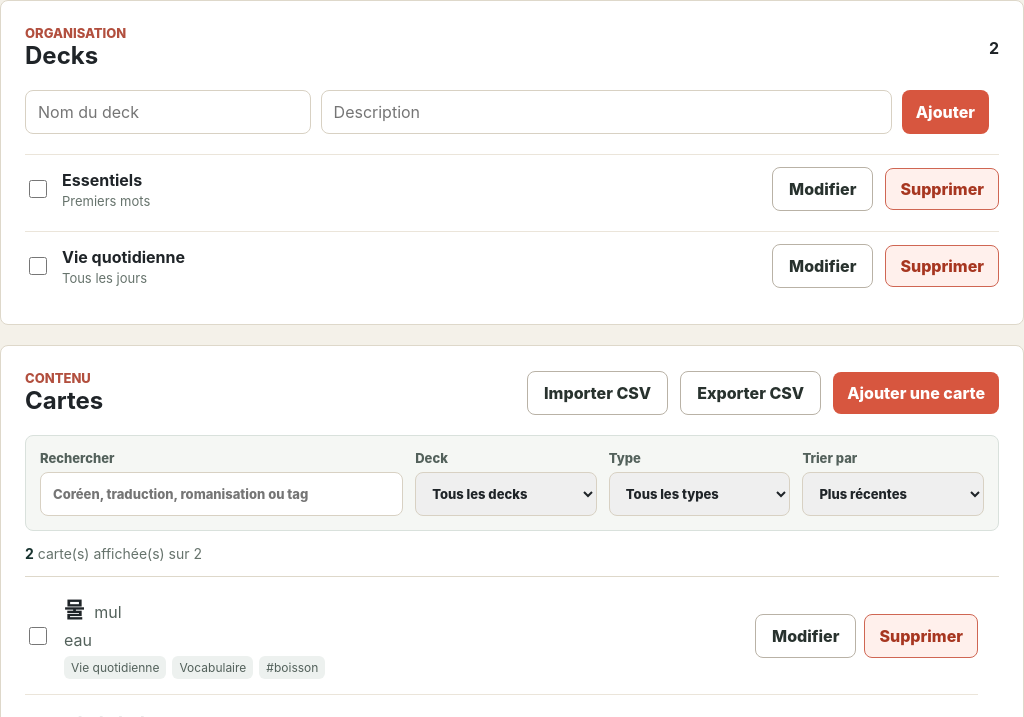
Test: LibraryPanel › filters existing cards and opens dedicated create and edit dialogs
The width and height of the screenshot is (1024, 717).
Expected: the message reads "2 carte(s) affichée(s) sur 2", [25,545,202,562]
Type "bonjour" into the search field labelled "Rechercher" at (222, 494), box [40,472,403,516]
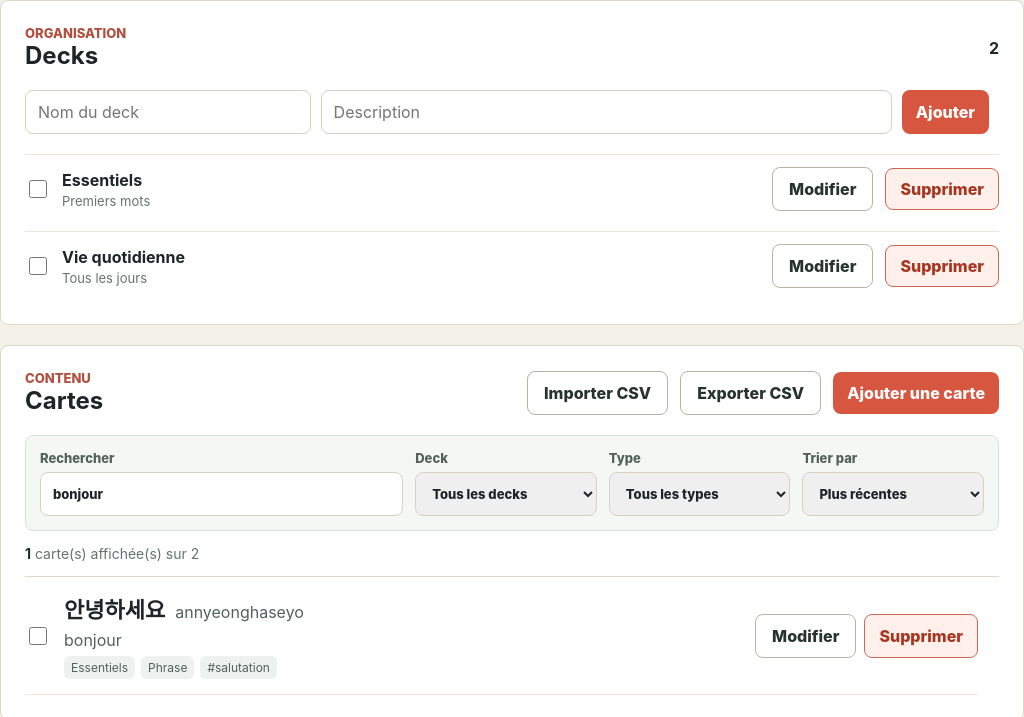
Expected: the element named "Carte 안녕하세요" is shown, [25,577,978,695]
Clear the search field labelled "Rechercher" at (222, 494), box [40,472,403,516]
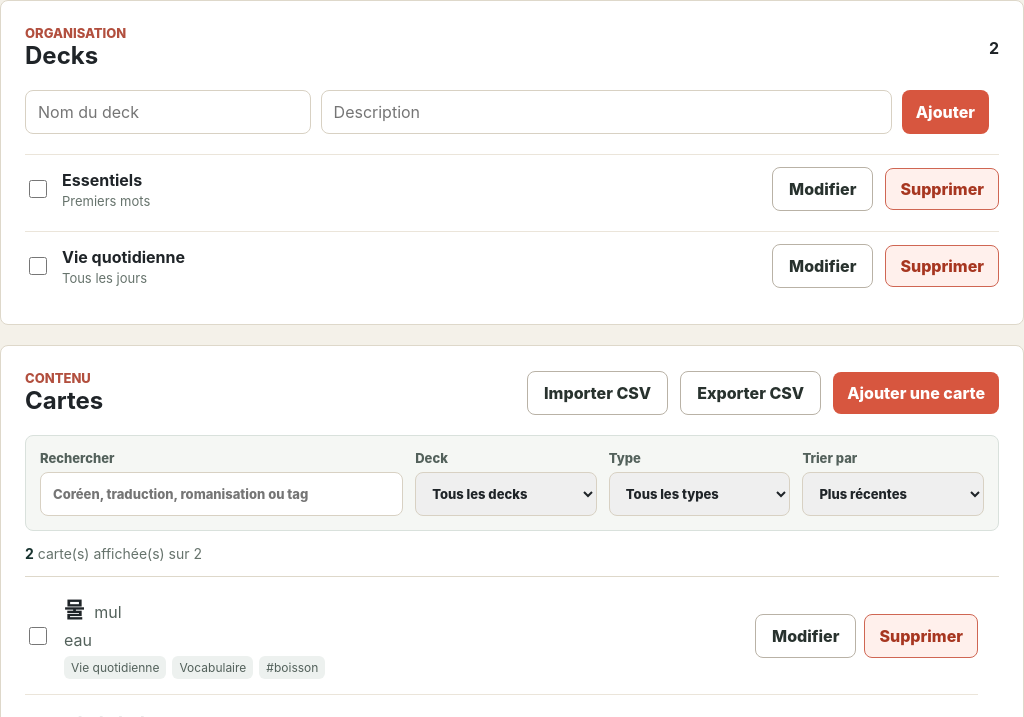
Select "Vie quotidienne" in the dropdown labelled "Deck" at (506, 494), box [415,472,597,516]
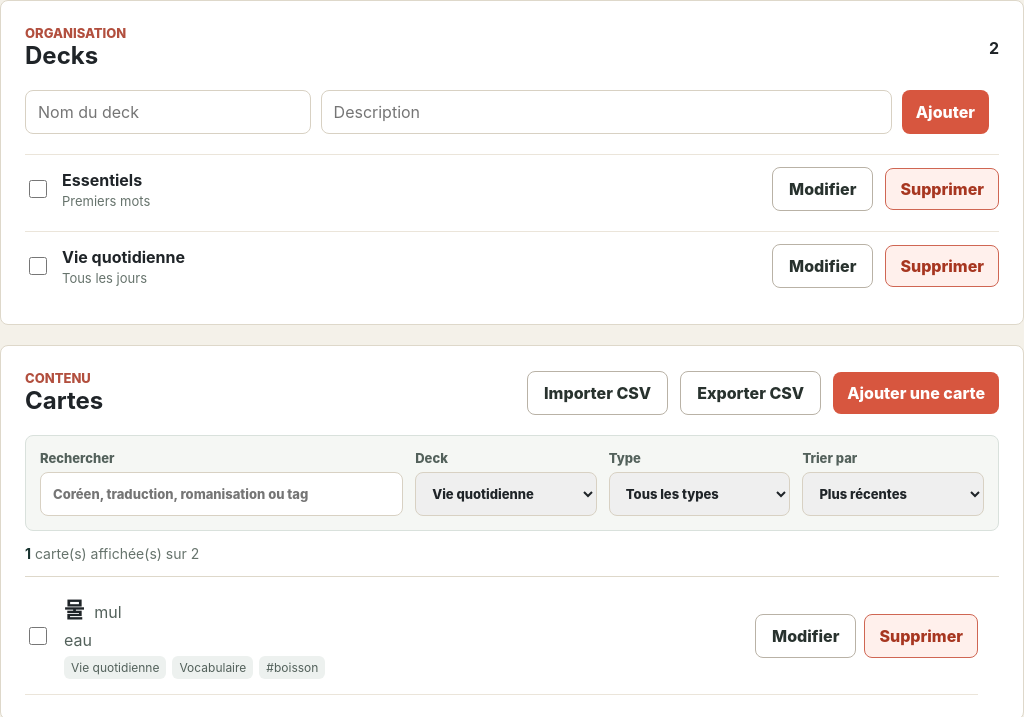
Expected: the element named "Carte 물" is shown, [25,577,978,695]
Click the button "Ajouter une carte" at (916, 393), box [833,372,999,414]
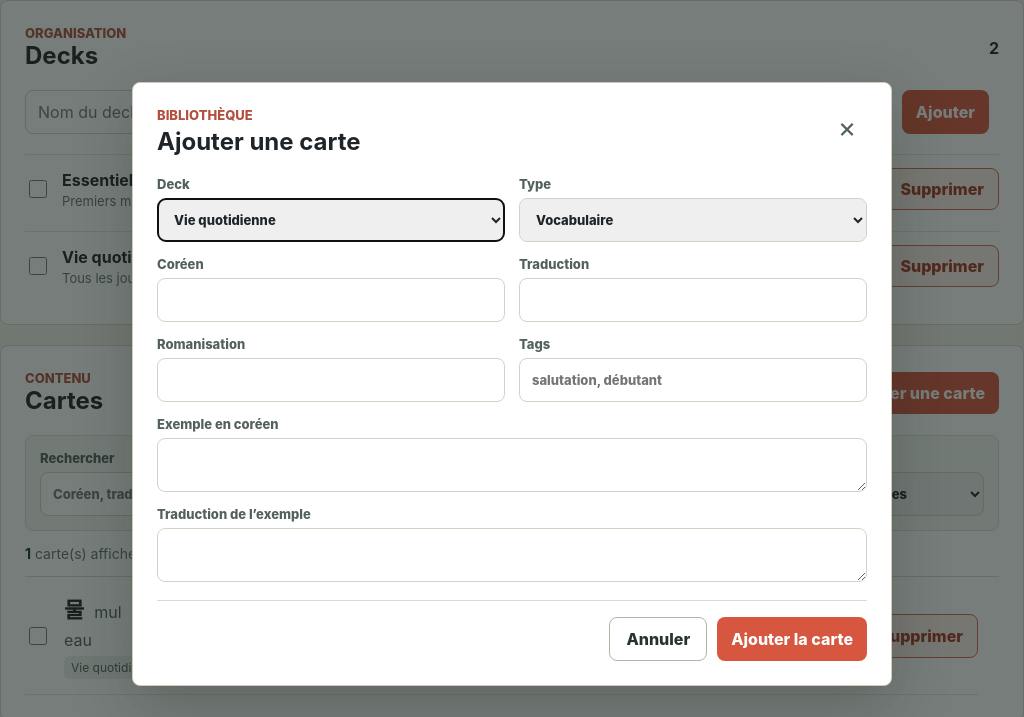
Expected: the dialog "Ajouter une carte" is shown
Expected: the dropdown labelled "Deck" shows "Vie quotidienne", [157,198,505,242]
Click the button named "Fermer" at (847, 127), box [827,107,867,147]
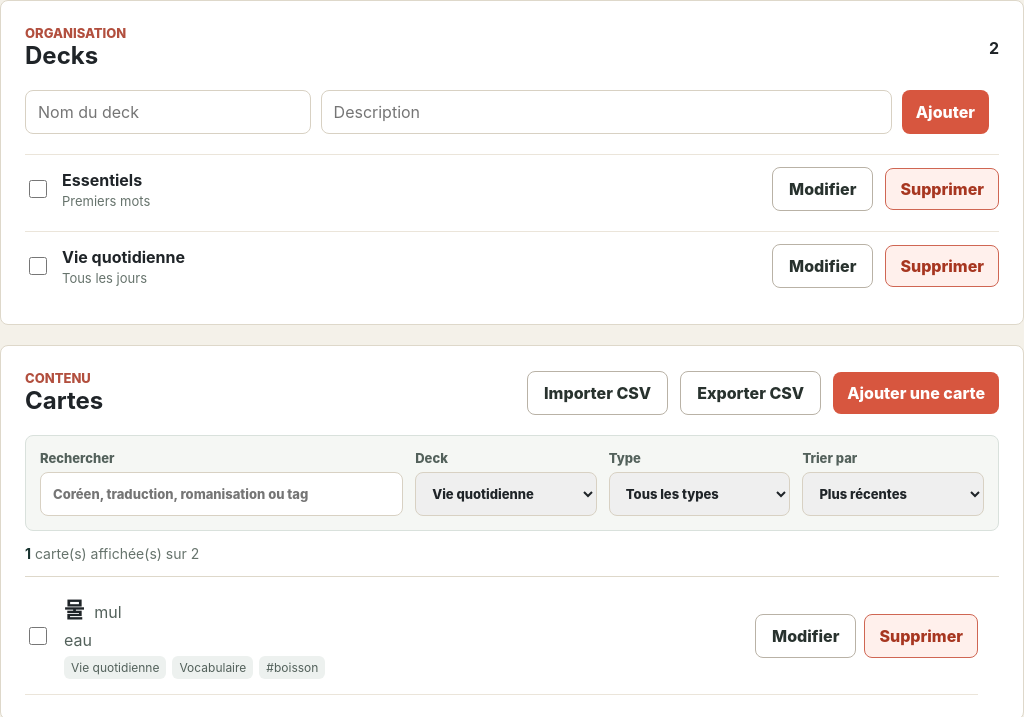
Click the button "Modifier" in the row of "mul" at (806, 636), box [755,614,856,658]
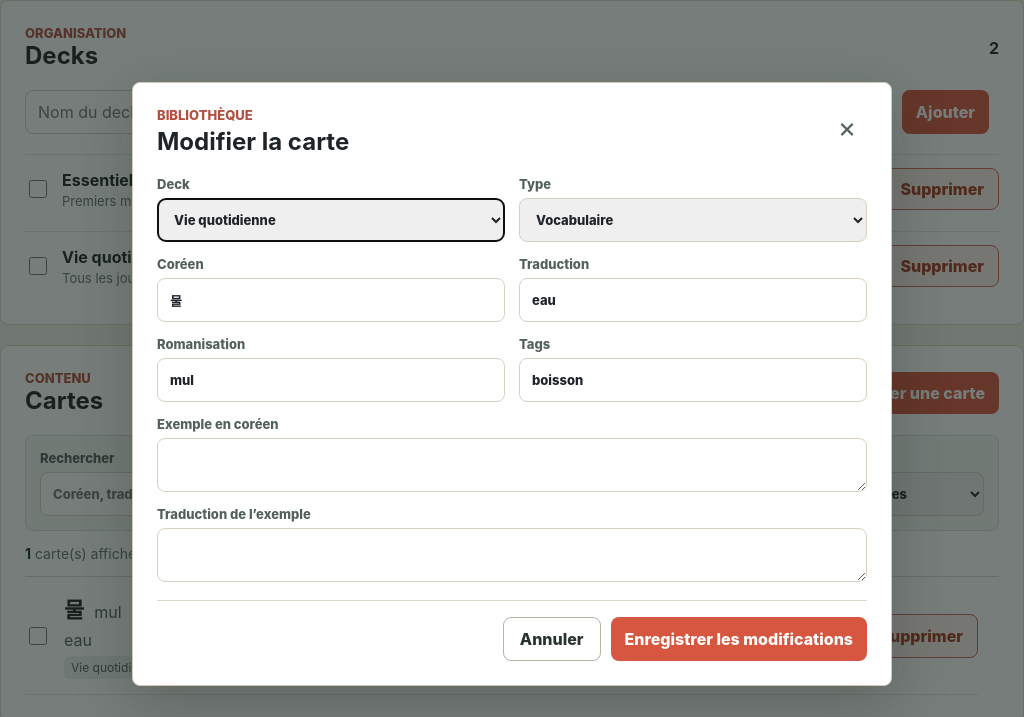
Expected: the dialog "Modifier la carte" is shown
Expected: the field labelled "Coréen" holds "물", [157,278,505,322]
Expected: the field labelled "Traduction" holds "eau", [519,278,867,322]
